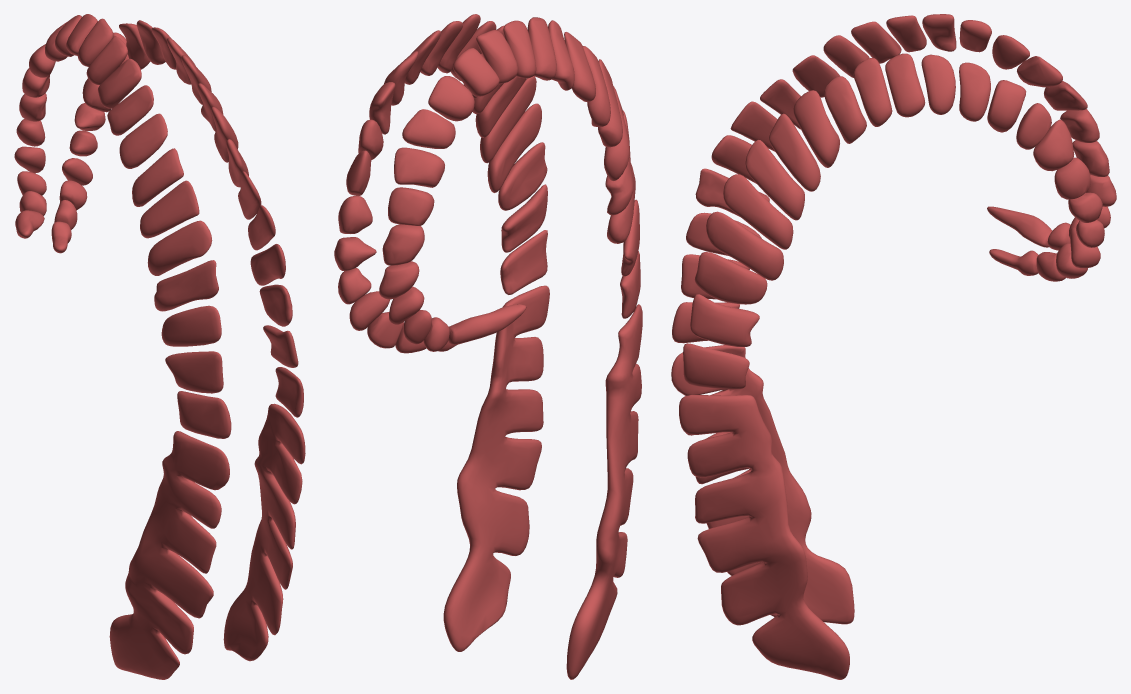
Rendered from Somites.fbx.
3 renders of one model, left to right at view 1: azimuth 30°, elevation 25°; view 2: azimuth 150°, elevation 25°; view 3: azimuth 270°, elevation 25°, orthographic. The views are drawn at different scales.
Parts seen in each view (by area): view 1: Somites; view 2: Somites; view 3: Somites.
Part boxes in pixels (<box>): Somites: <box>14,14,305,679</box>; Somites: <box>334,14,642,679</box>; Somites: <box>671,14,1116,679</box>.
Size of the model in its own units: 9.37 by 35.43 by 22.75.
